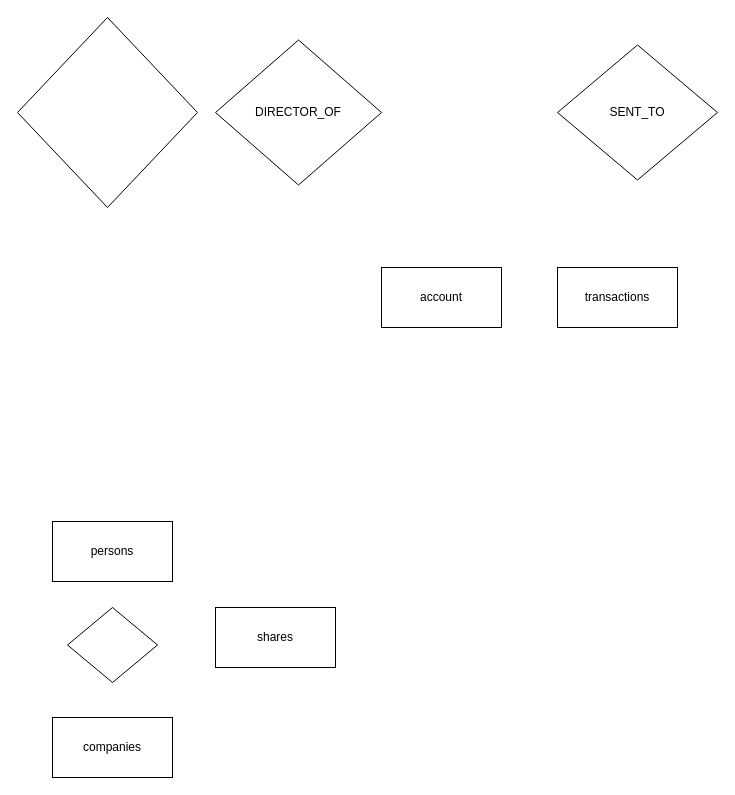
The diagram is 735 pixels wide and 795 high, and some of its shapes have lost their labels. The centre of each missing label's shape, as x and y in pixels:
HAS_ACCOUNT: pixel 107 112
OWNS: pixel 112 644
